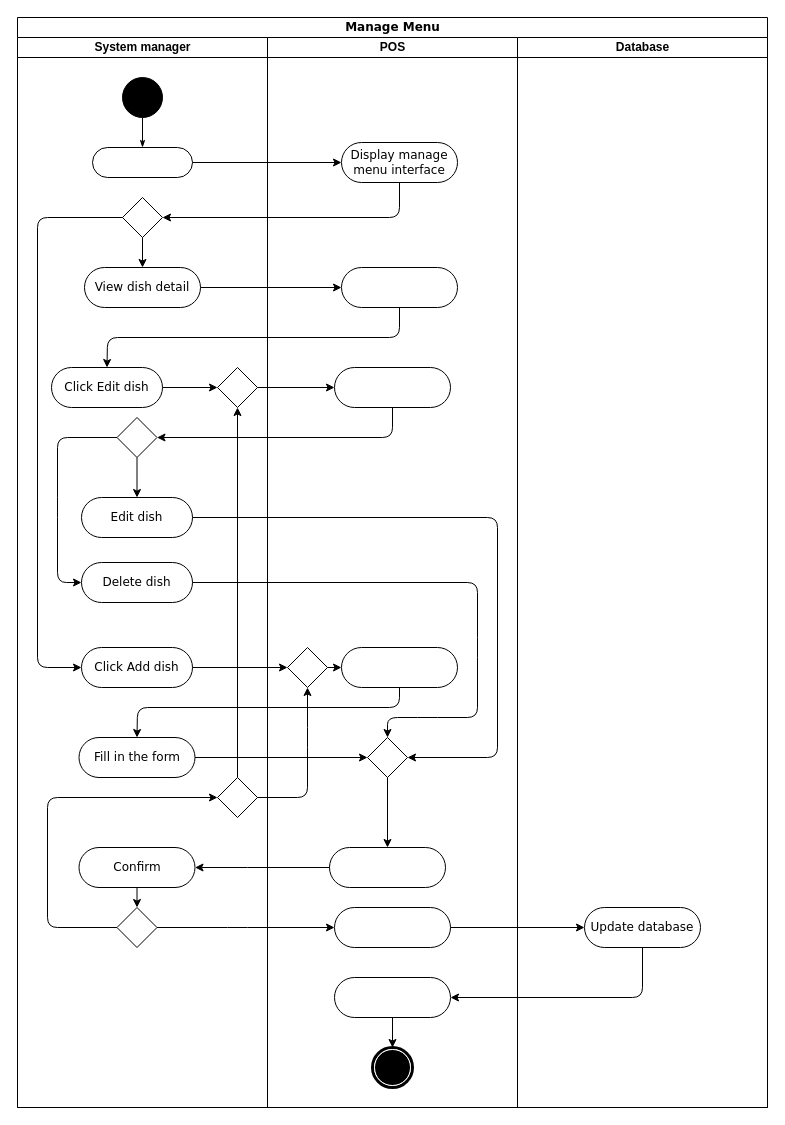
This 785x1125 diagram has some shape labels left out. The shapes that lost their labels are listed below. From the top down, each one's centre as x and y in pixels, then its label:
At (142,162): "Click manage menu button".
At (399,287): "Display dish detail".
At (392,387): "Display form to edit".
At (399,667): "Display form to add".
At (387,867): "Display confirm button".
At (392,927): "Recieve confirm".
At (392,997): "Update interface".
